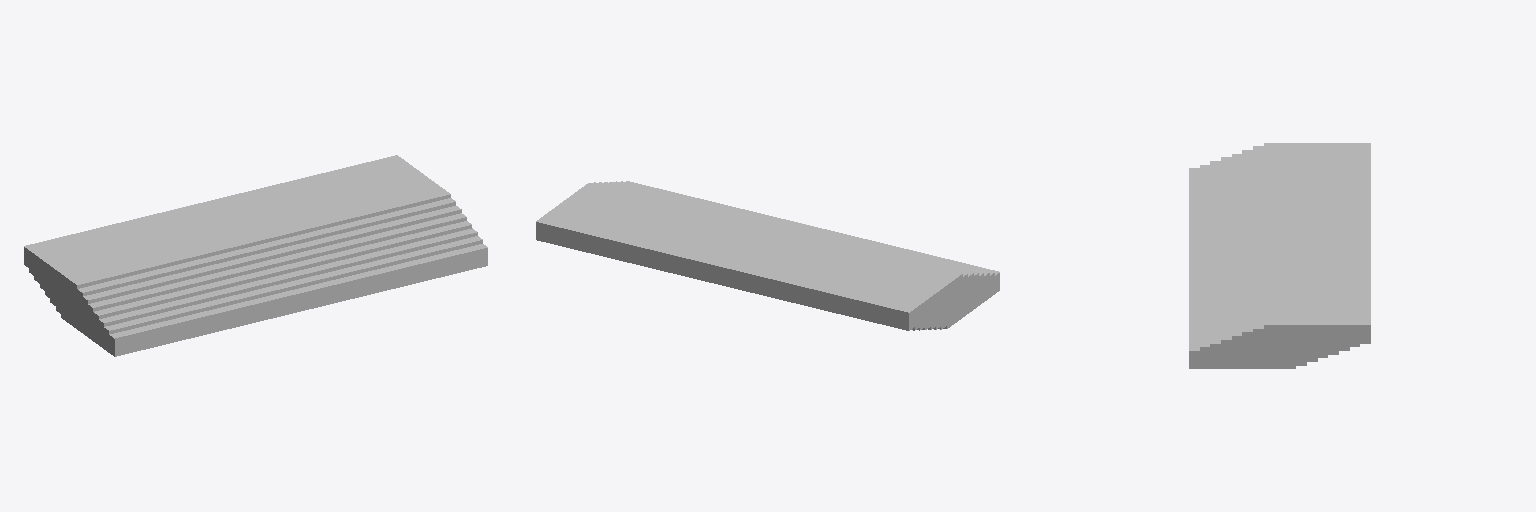
File: schody.obj
3 renders of one model, left to right at view 1: azimuth 30°, elevation 25°; view 2: azimuth 150°, elevation 25°; view 3: azimuth 270°, elevation 25°, orthographic.
Parts seen in each view (by area): view 1: Cube.002; view 2: Cube.002; view 3: Cube.002.
Part boxes in pixels (x1,y1,x2,y2): Cube.002: (24, 155, 487, 356); Cube.002: (536, 181, 999, 330); Cube.002: (1189, 143, 1370, 368).
Size of the model in its own units: 5.33 by 0.6017 by 2.25.